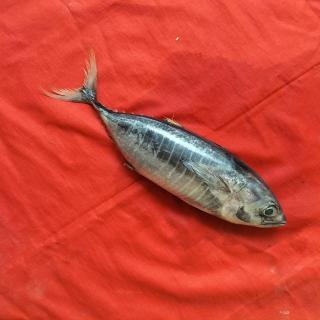Ikan: (41, 52, 296, 245)
